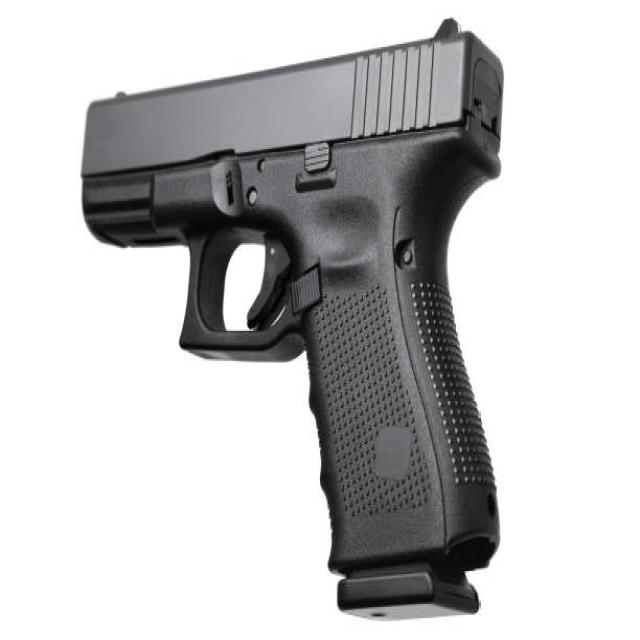pistol: (70, 13, 511, 632)
